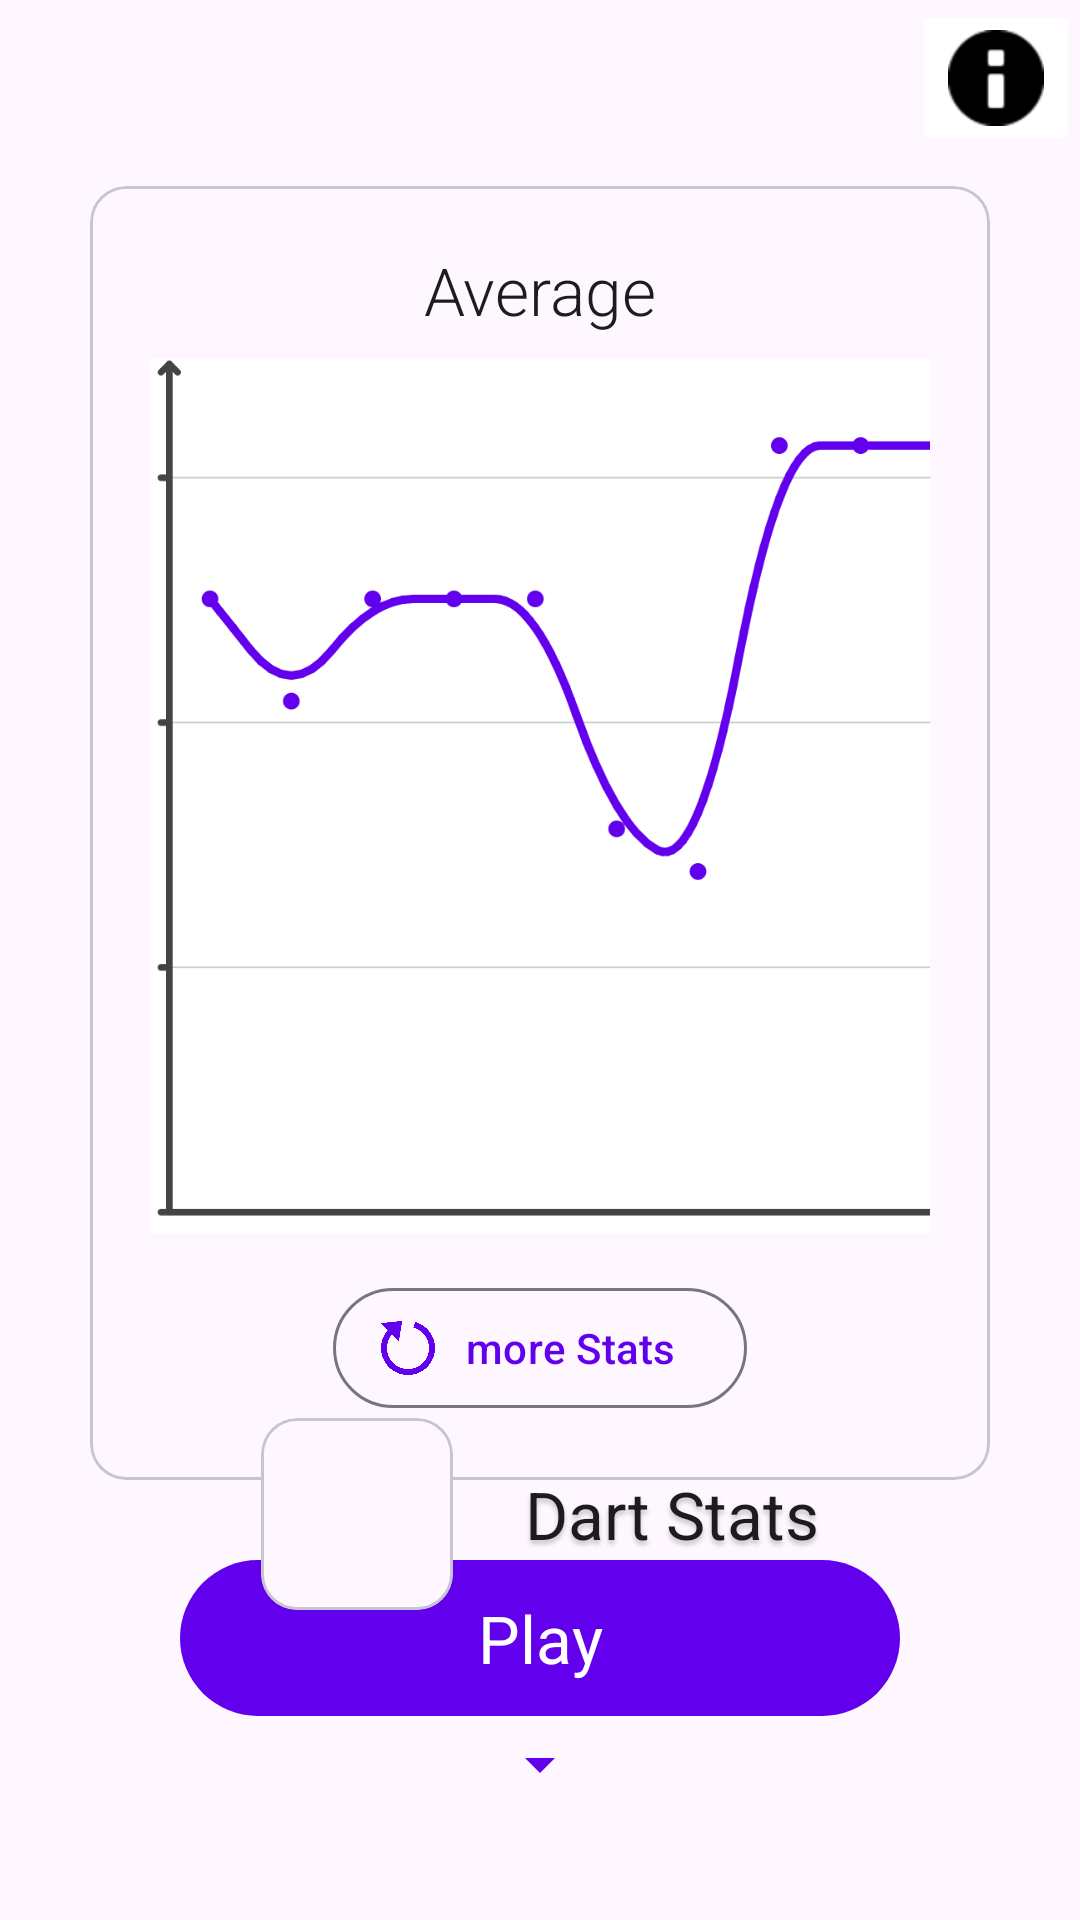

Named icons in this screenshot (1080 × 1920) and their bounding boxes, (x1, y1, x2, y2):
info: (948, 30, 1044, 126)
